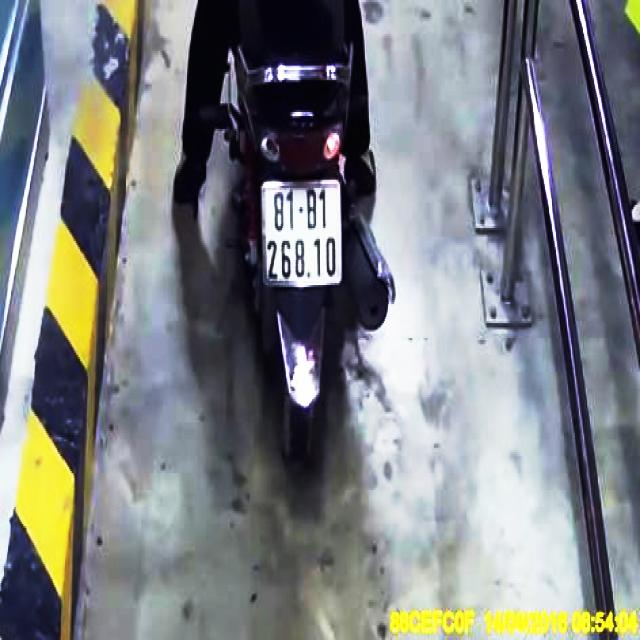license_plate: (262, 181, 342, 288)
